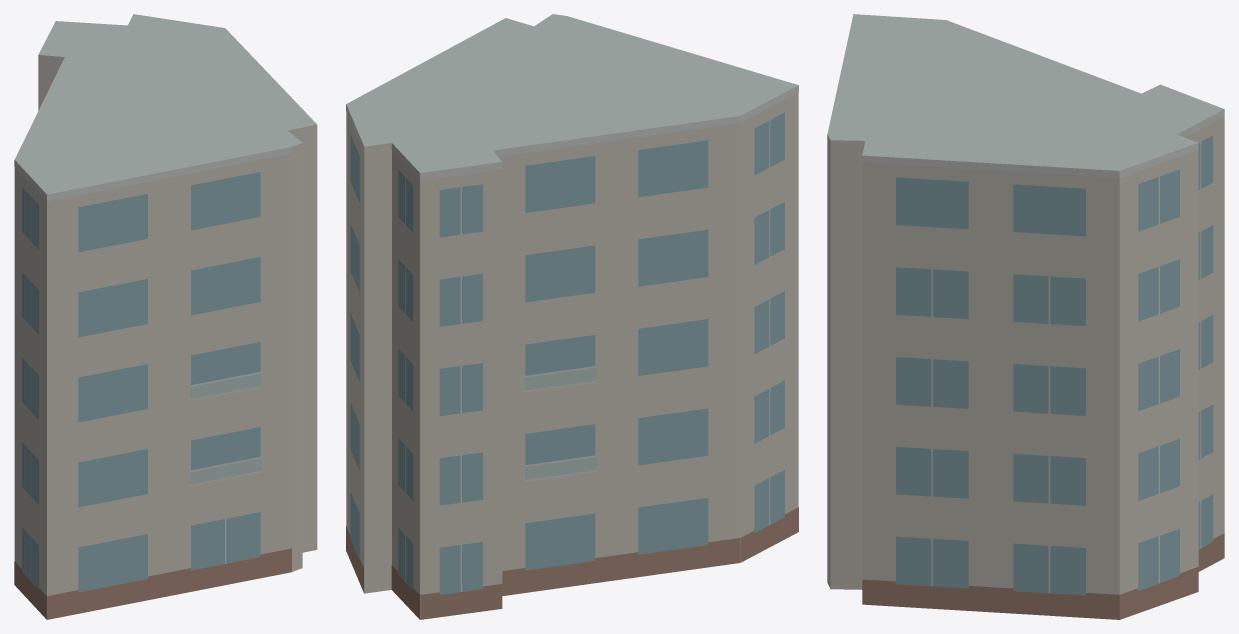
The model's file is survey-upis-32651967.glb.
3 renders of one model, left to right at view 1: azimuth 30°, elevation 25°; view 2: azimuth 150°, elevation 25°; view 3: azimuth 270°, elevation 25°, orthographic. The views are drawn at different scales.
Parts seen in each view (by area): view 1: survey-upis-32651967.tmp; view 2: survey-upis-32651967.tmp; view 3: survey-upis-32651967.tmp.
Part boxes in pixels (x1=…): survey-upis-32651967.tmp: x1=14, y1=14, x2=317, y2=619; survey-upis-32651967.tmp: x1=346, y1=14, x2=798, y2=619; survey-upis-32651967.tmp: x1=827, y1=14, x2=1224, y2=619.
Bounding box in the file's own units: 11.32 × 15.1 × 12.11.
